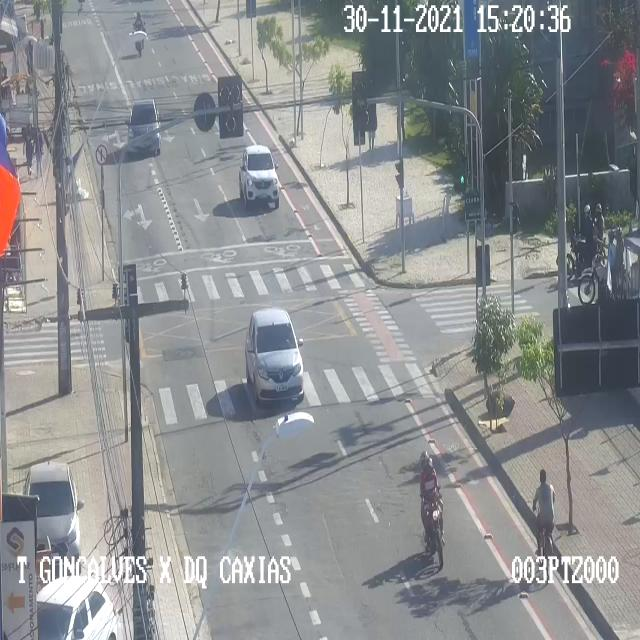Car: (246, 306, 304, 405), (35, 578, 117, 639), (25, 462, 79, 550), (240, 147, 280, 208), (127, 97, 159, 153)
Motorcycle: (578, 228, 627, 303), (420, 450, 446, 566), (566, 203, 603, 276), (132, 11, 144, 55)
